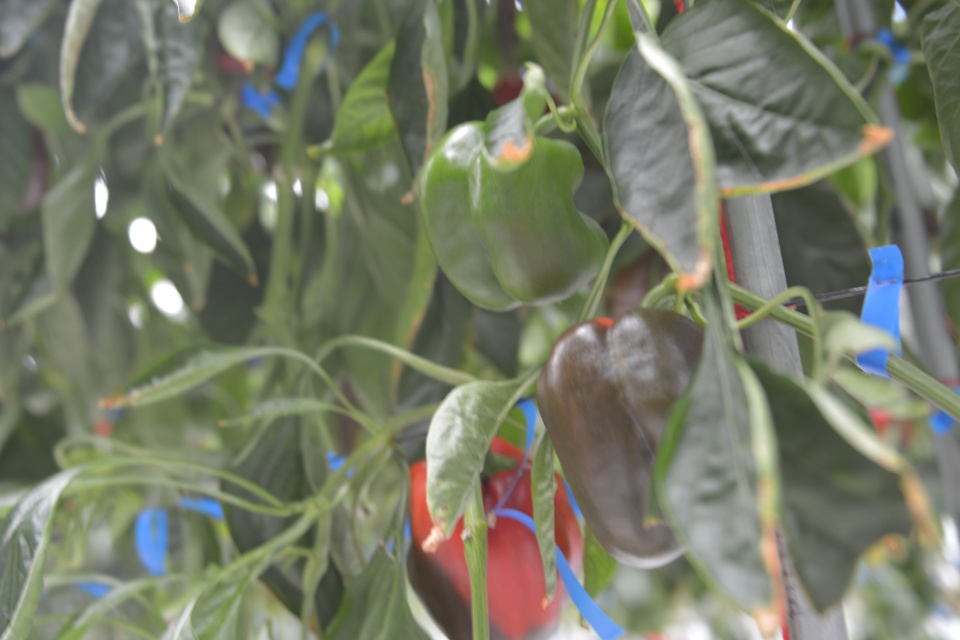fruit: (533, 306, 704, 574), (414, 116, 610, 315), (407, 435, 585, 640)
